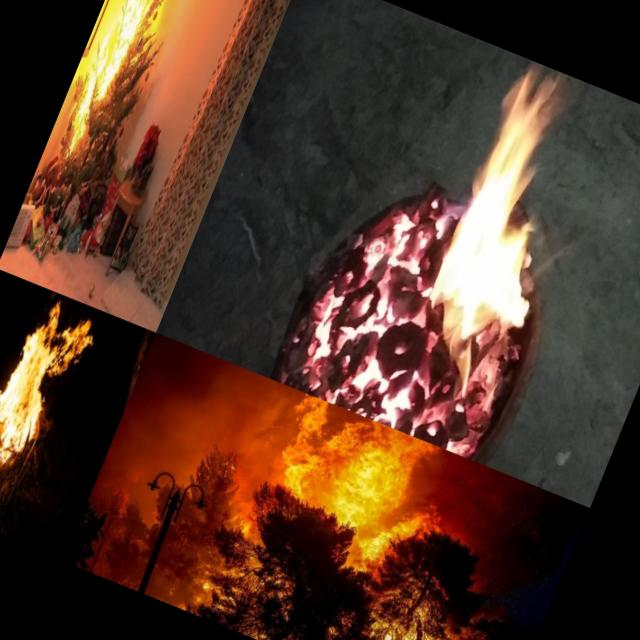fire: (370, 54, 620, 460), (268, 160, 458, 419), (248, 390, 470, 576), (0, 285, 104, 488), (58, 0, 182, 157)
